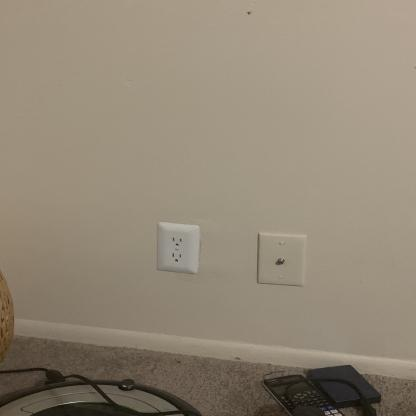OUTLET: (156, 222, 198, 273)
